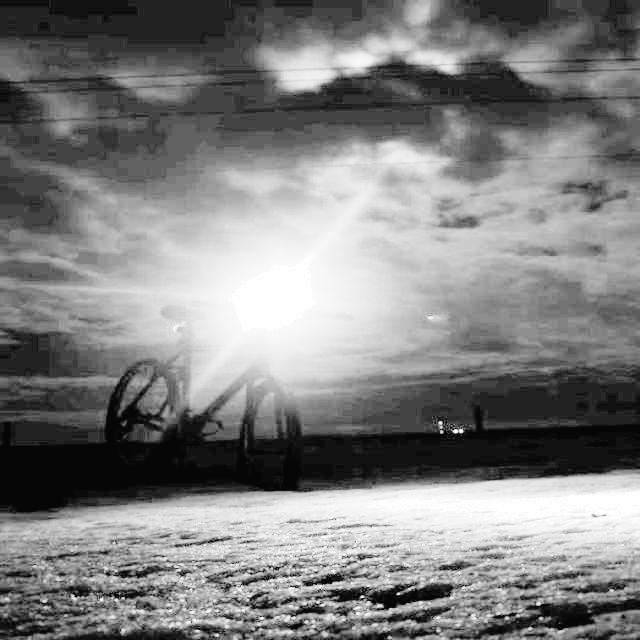Bicycle: (107, 314, 302, 494)
